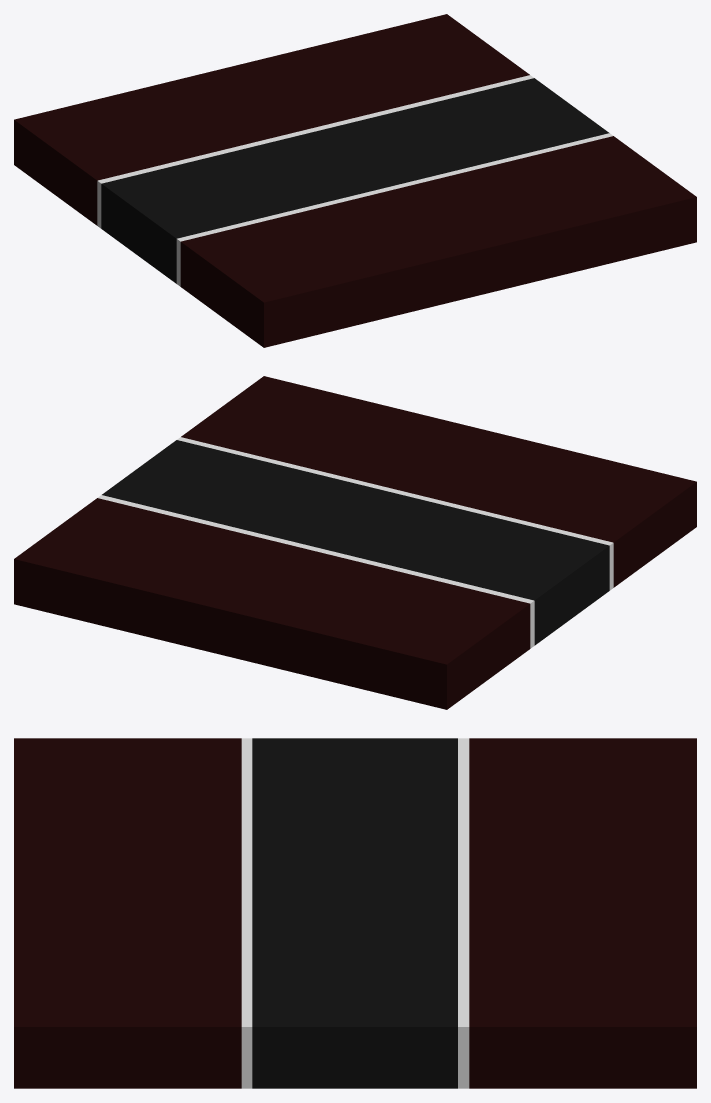
File: Ground.fbx
3 views of the same model, one above another, from view 1: azimuth 30°, elevation 25°; view 2: azimuth 150°, elevation 25°; view 3: azimuth 270°, elevation 25° (orthographic). The views are drawn at different scales.
Visible parts, largest first — view 1: Ground; view 2: Ground; view 3: Ground.
Boxes of the visible parts, x1,y1,x2,y2 form: Ground: [14, 14, 696, 347]; Ground: [14, 376, 696, 709]; Ground: [14, 738, 696, 1088].
Size of the model in its own units: 2000 by 200 by 2000.
